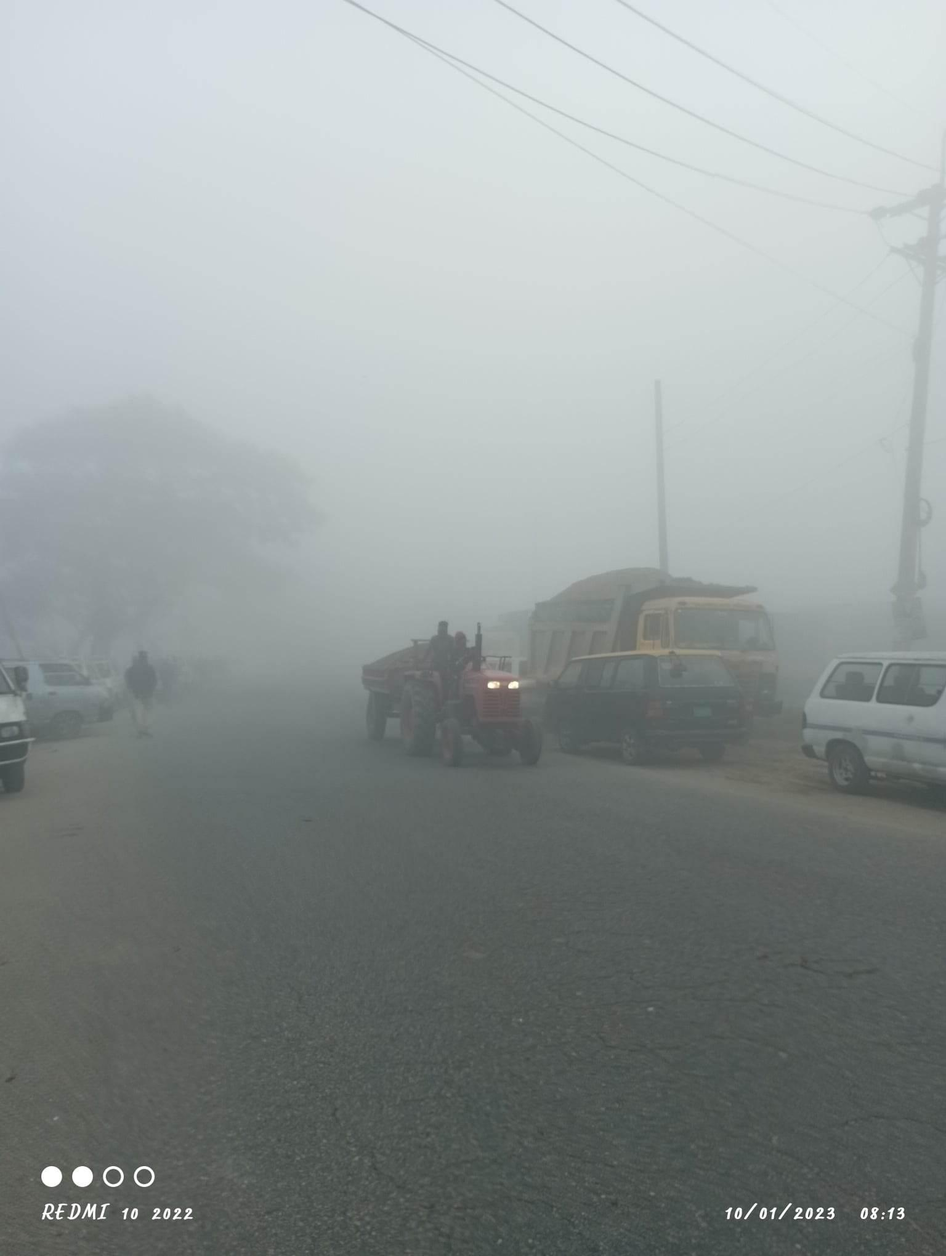Car: (801, 619, 945, 801), (543, 653, 761, 768), (18, 649, 132, 742)
Truck: (529, 576, 798, 767), (338, 620, 564, 806)
